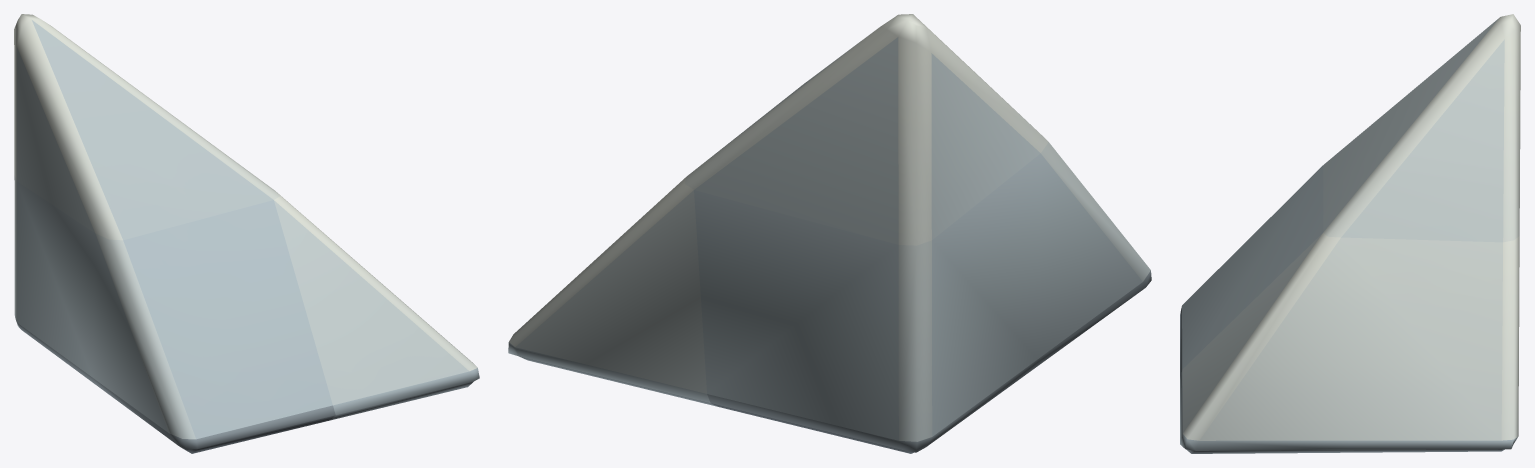
File: Quartz_2x2_Slope_Outer.fbx
The picture shows the model from 3 angles, left to right: view 1: azimuth 30°, elevation 25°; view 2: azimuth 150°, elevation 25°; view 3: azimuth 270°, elevation 25°; orthographic projection. The views are drawn at different scales.
Visible parts, largest first — view 1: Quartz_2x2_Slope_Outer_LOD0; view 2: Quartz_2x2_Slope_Outer_LOD0; view 3: Quartz_2x2_Slope_Outer_LOD0.
Boxes of the visible parts, bbox=[...] form: Quartz_2x2_Slope_Outer_LOD0: bbox=[14, 14, 479, 453]; Quartz_2x2_Slope_Outer_LOD0: bbox=[508, 14, 1151, 453]; Quartz_2x2_Slope_Outer_LOD0: bbox=[1180, 14, 1520, 453].
Size of what is drawn, in the model's own units: 1.03 by 1.04 by 1.04.
